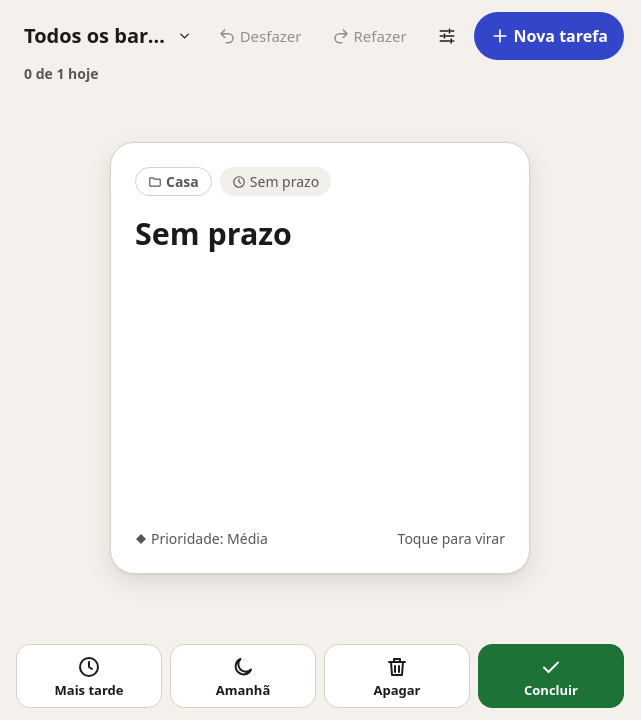
Test: add one task to the calendar › is not offered for a task without a due date
Click the button with aria-label "Sem prazo. Sem prazo. Prioridade média. Baralho Casa.".
click(320, 358)  # box x1=110 y1=142 x2=530 y2=574
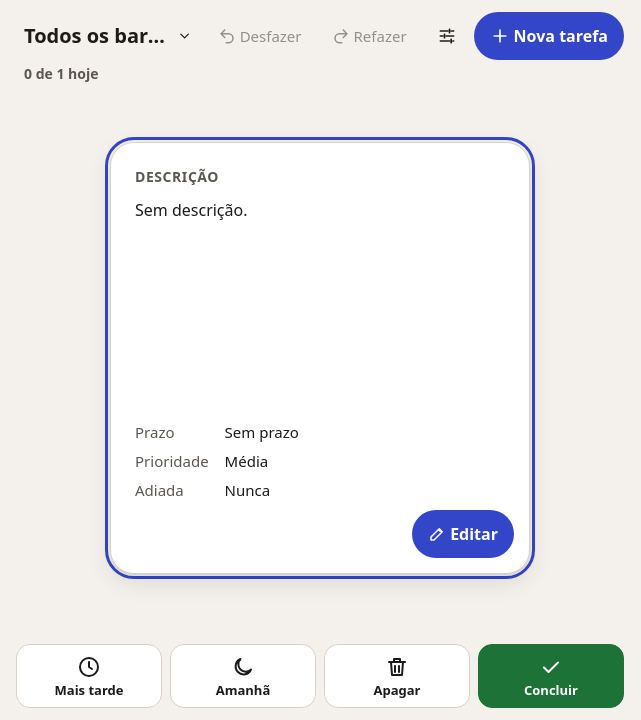
Expected: the button "Editar" is shown, x1=412 y1=510 x2=514 y2=558
